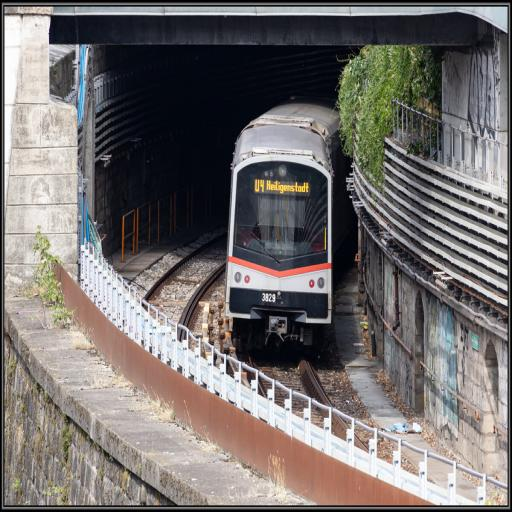V-Wagen: (224, 103, 346, 340)
